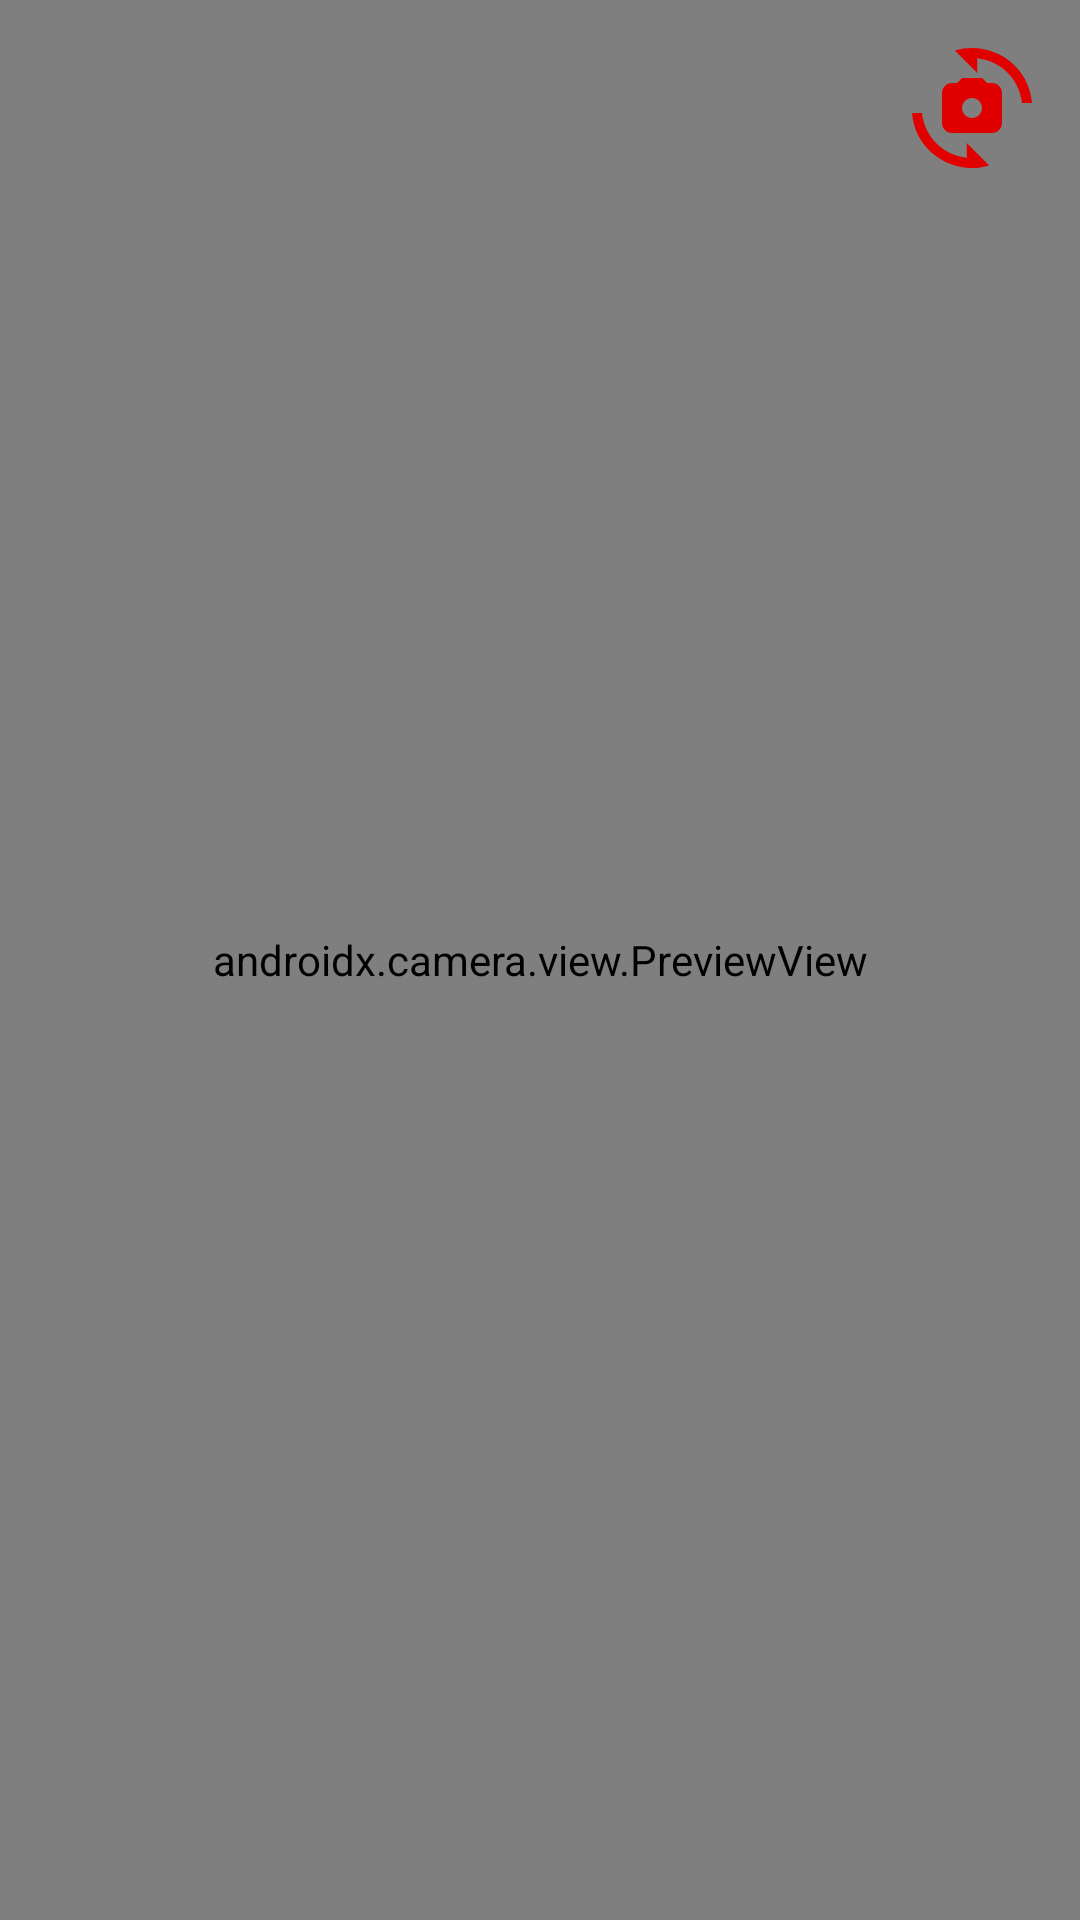

Icons on this 1080w x 1920h Android screen, each with its box as (x1, y1, x2, y2):
Switch Camera: (912, 48, 1032, 168)
